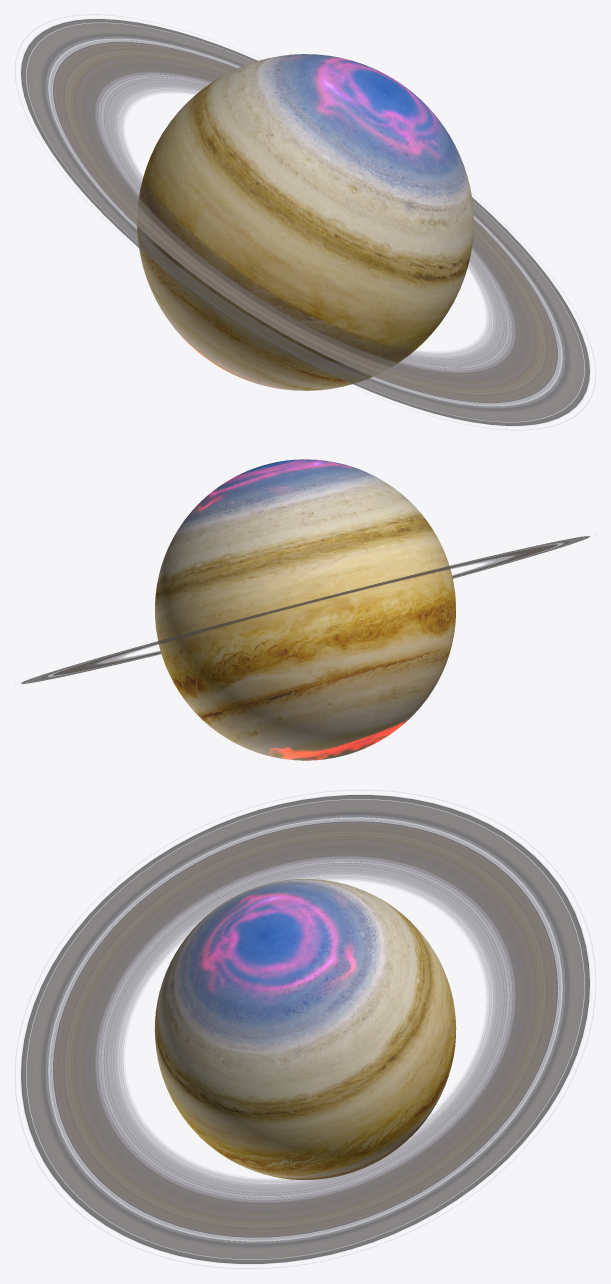
The model's file is saturn.gltf.
3 views of the same model, one above another, from view 1: azimuth 30°, elevation 25°; view 2: azimuth 150°, elevation 25°; view 3: azimuth 270°, elevation 25° (orthographic). The views are drawn at different scales.
Parts seen in each view (by area): view 1: Saturn_6; view 2: Saturn_6; view 3: Saturn_6.
Part boxes in pixels (x1=…): Saturn_6: x1=21, y1=19, x2=589, y2=425; Saturn_6: x1=21, y1=459, x2=589, y2=760; Saturn_6: x1=21, y1=795, x2=589, y2=1263.
Bounding box in the file's own units: 0.2169 × 0.1205 × 0.2331.
2 materials, 2 textured.
